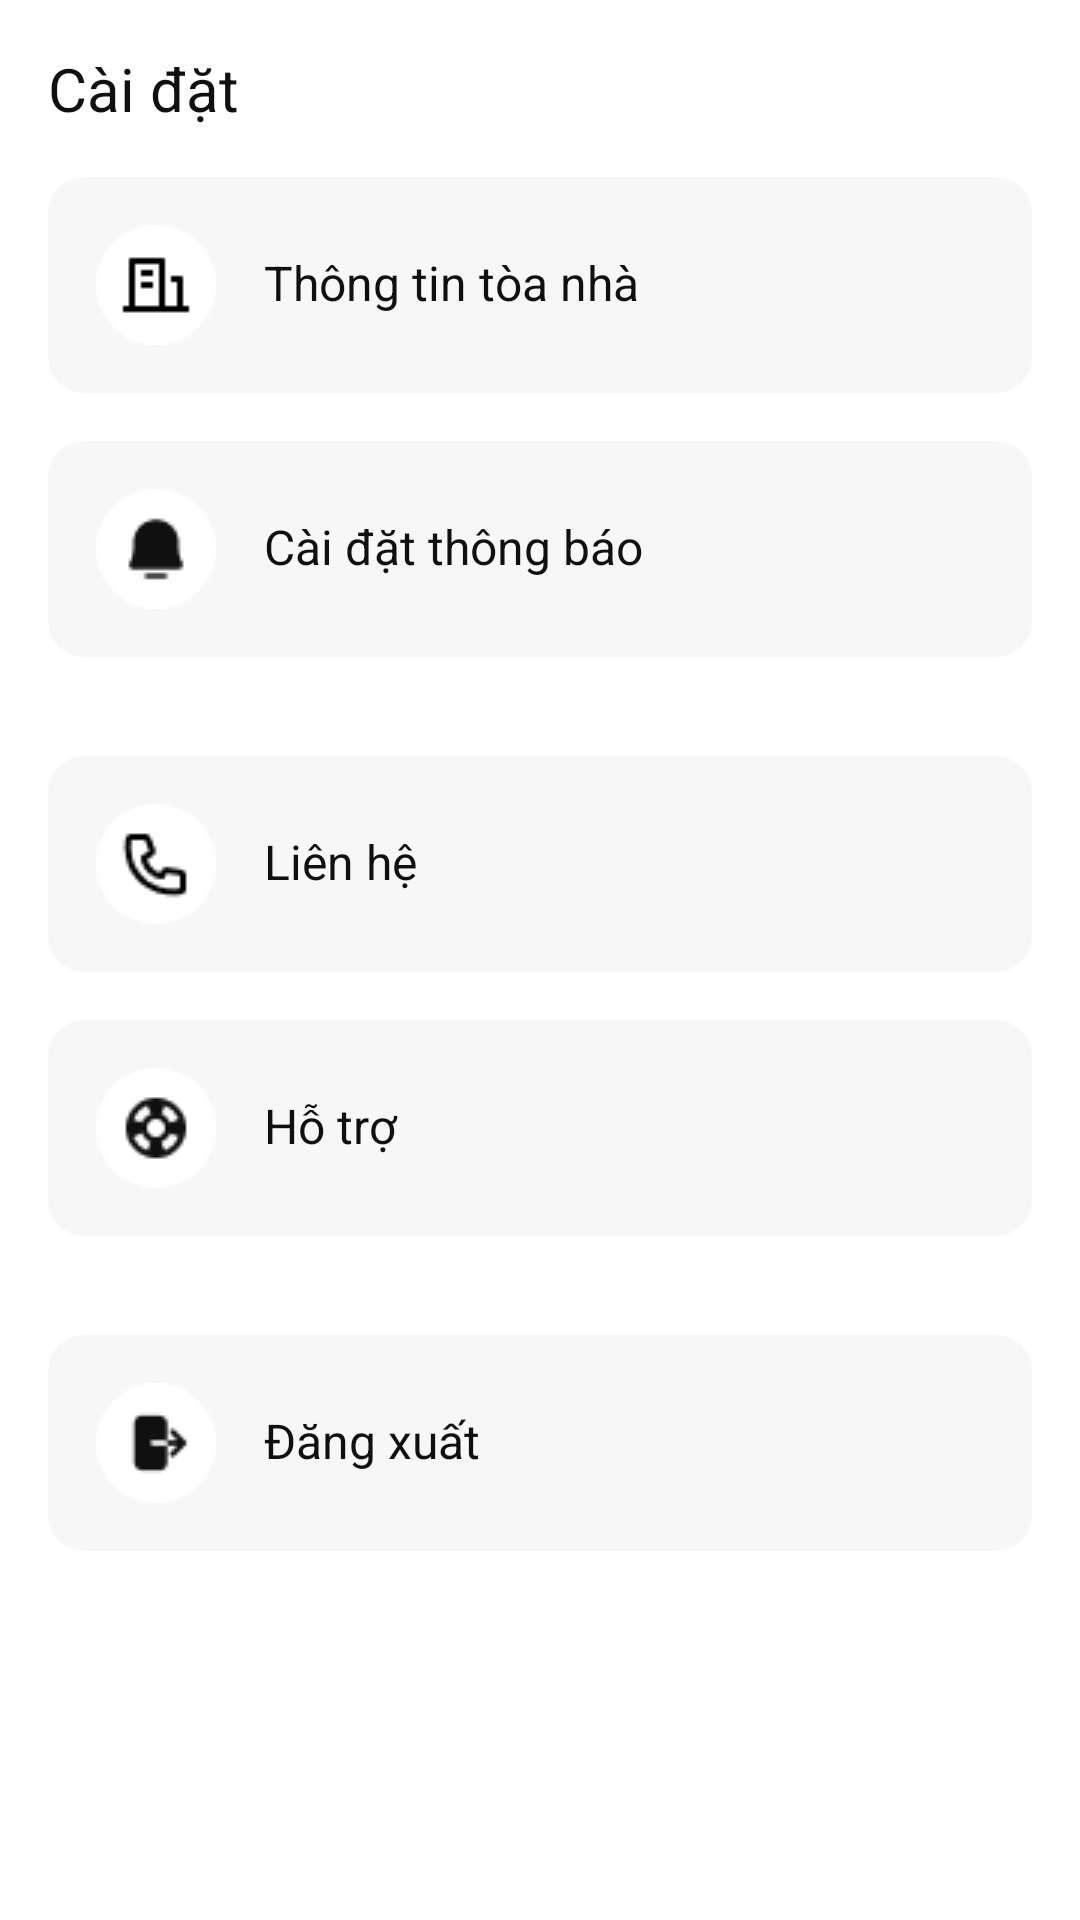

Icon click points for this 1080 x 1920 phone screenshot, format (x=x, y=y):
building circle: (x=156, y=285)
contact circle: (x=155, y=865)
notification circle: (x=156, y=549)
support circle: (x=156, y=1128)
